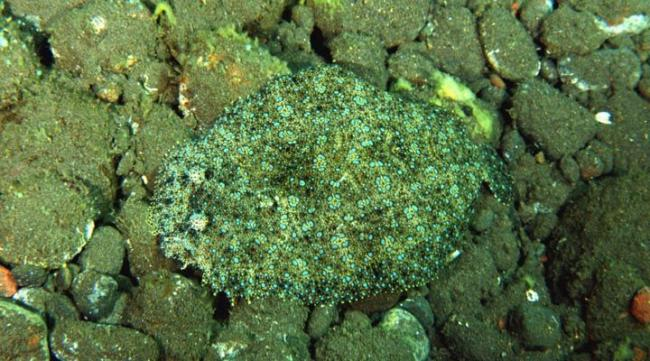fish: (160, 64, 512, 304)
